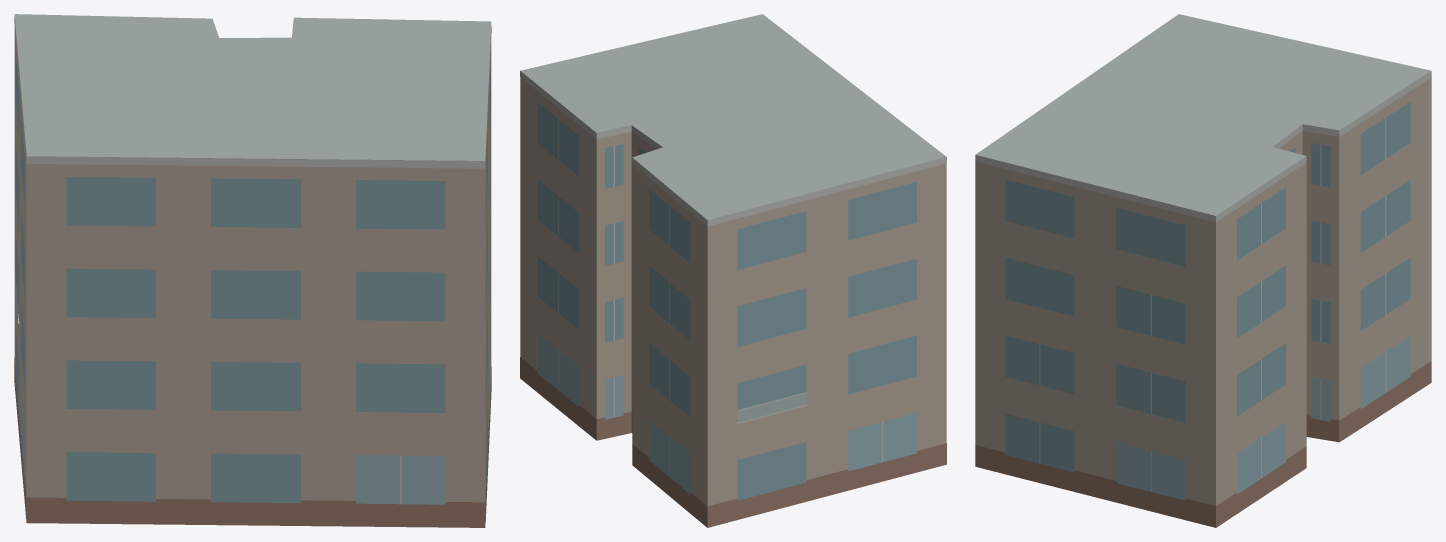
File: survey-upis-32944861.glb
The picture shows the model from 3 angles, left to right: view 1: azimuth 30°, elevation 25°; view 2: azimuth 150°, elevation 25°; view 3: azimuth 270°, elevation 25°; orthographic projection. The views are drawn at different scales.
Visible parts, largest first — view 1: survey-upis-32944861.tmp; view 2: survey-upis-32944861.tmp; view 3: survey-upis-32944861.tmp.
Boxes of the visible parts, box(x1,y1,x2,y2) form: survey-upis-32944861.tmp: box(14, 14, 491, 527); survey-upis-32944861.tmp: box(520, 14, 946, 527); survey-upis-32944861.tmp: box(975, 14, 1431, 527).
Bounding box in the file's own units: 16.11 × 11.6 × 15.38.
